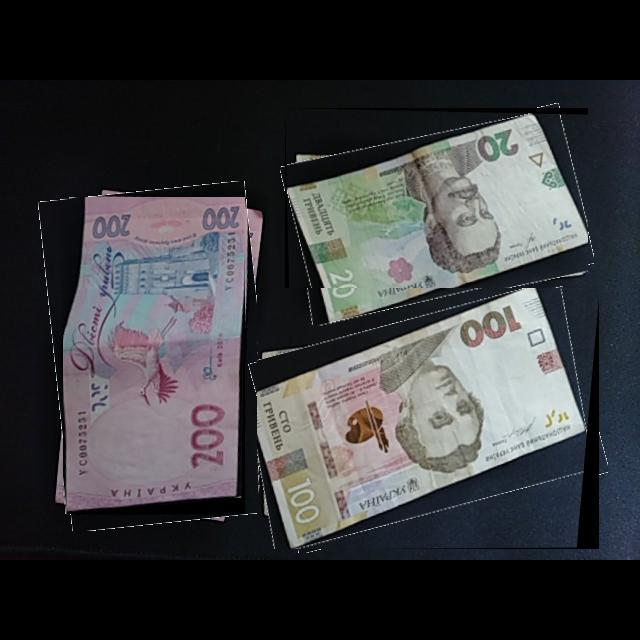100uah: (257, 288, 590, 550)
200uah: (63, 197, 246, 512)
20uah: (287, 113, 589, 323)
